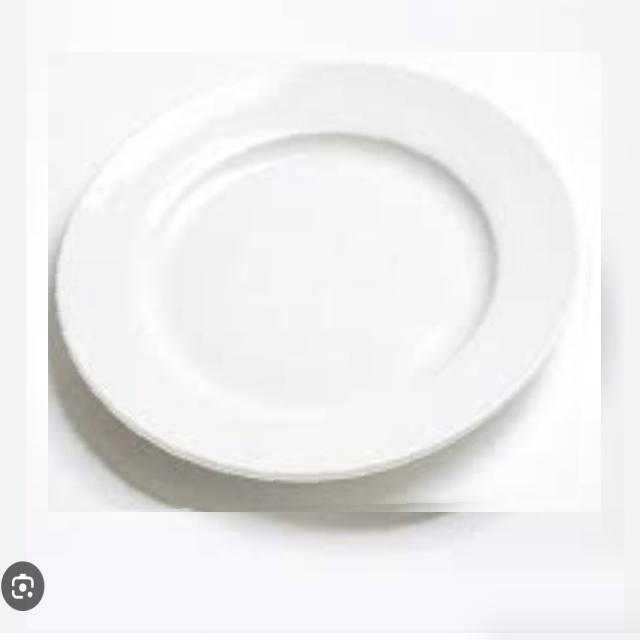recyclable: (48, 52, 601, 512)
